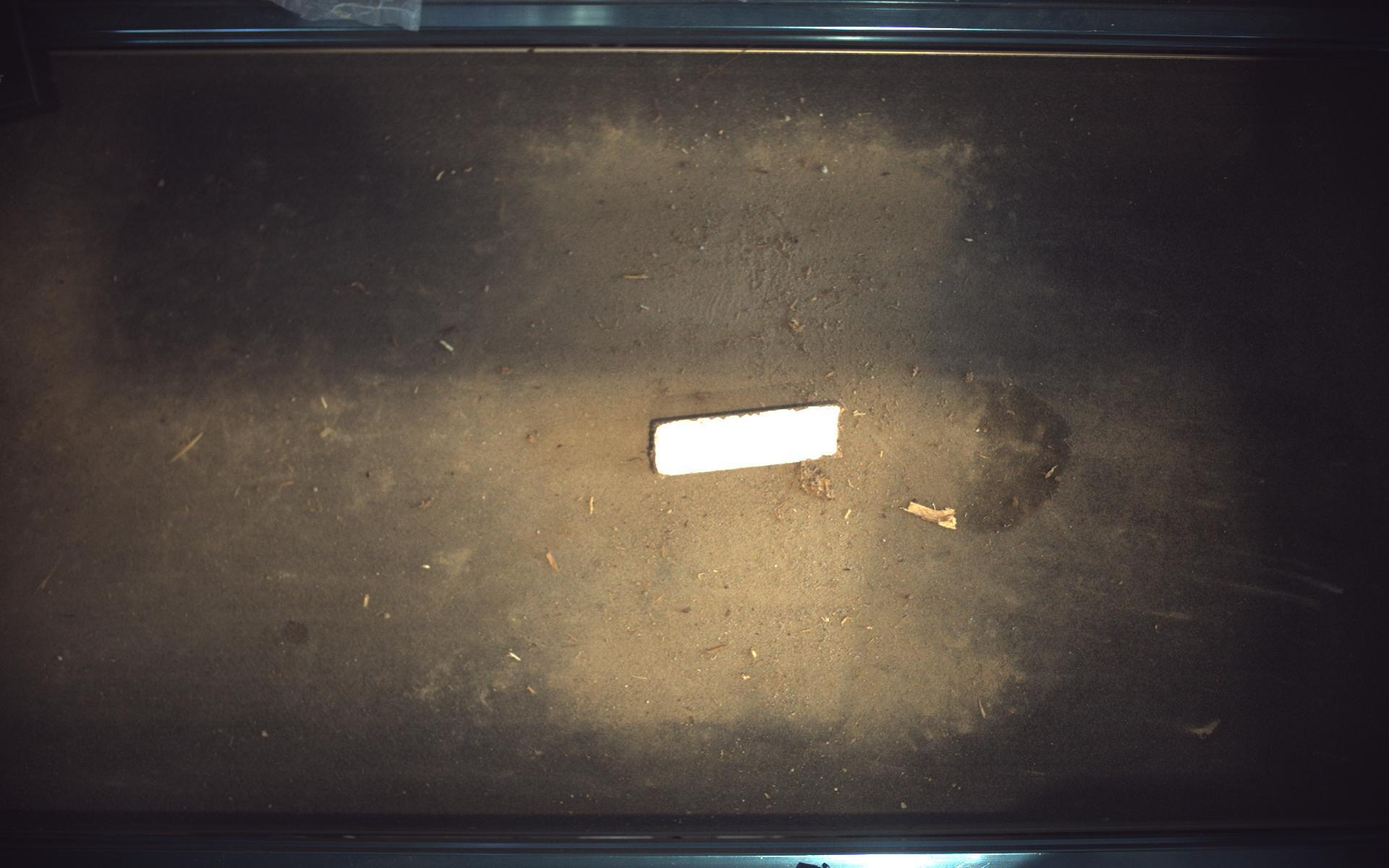wood: (650, 402, 843, 475)
